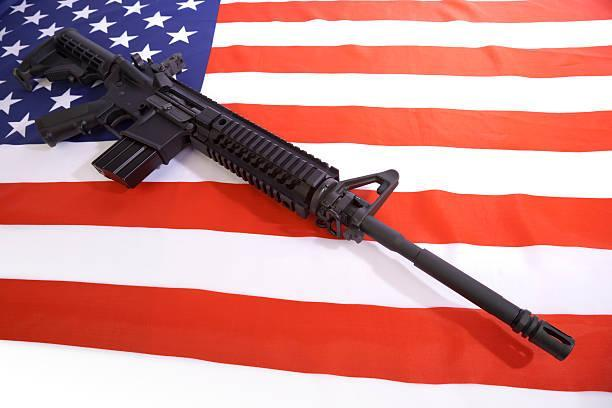larga: (15, 26, 576, 362)
